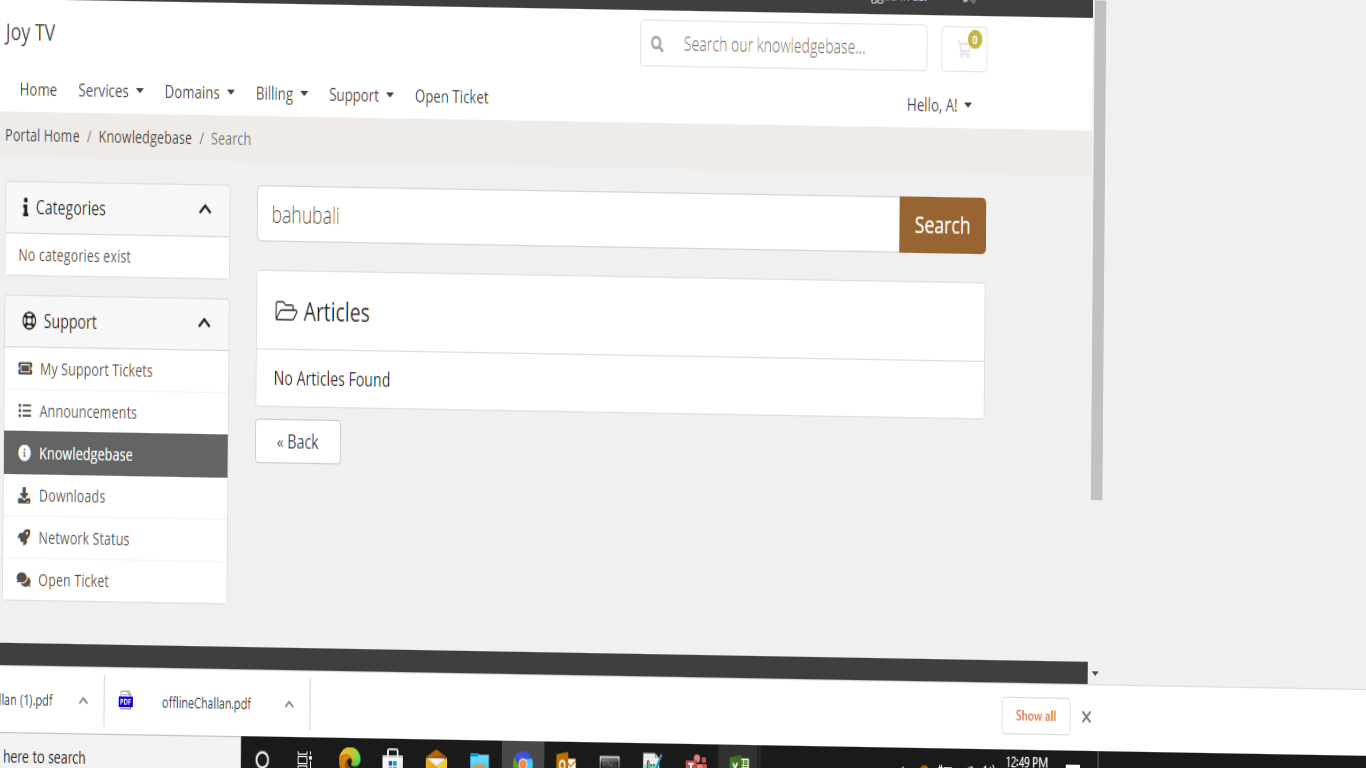backbutton: (253, 420, 345, 471)
noresultsfound: (253, 351, 996, 419)
profileicon: (892, 92, 979, 120)
searchicon: (642, 22, 670, 57)
searchtextbox: (633, 15, 935, 75)
